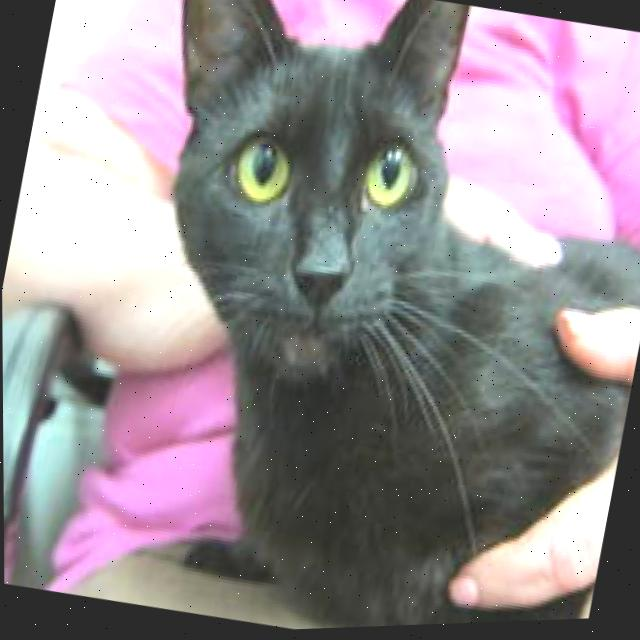Bombay: (60, 0, 640, 638)
